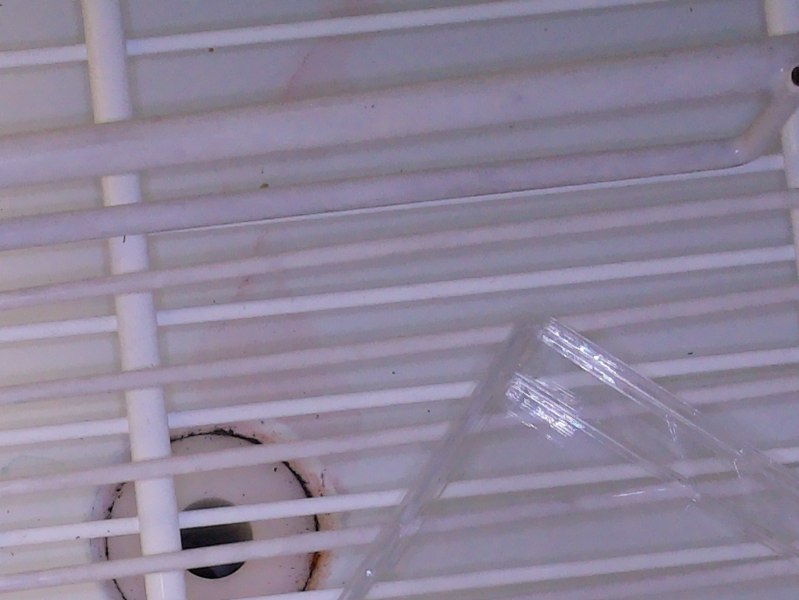plate: (331, 309, 799, 600)
